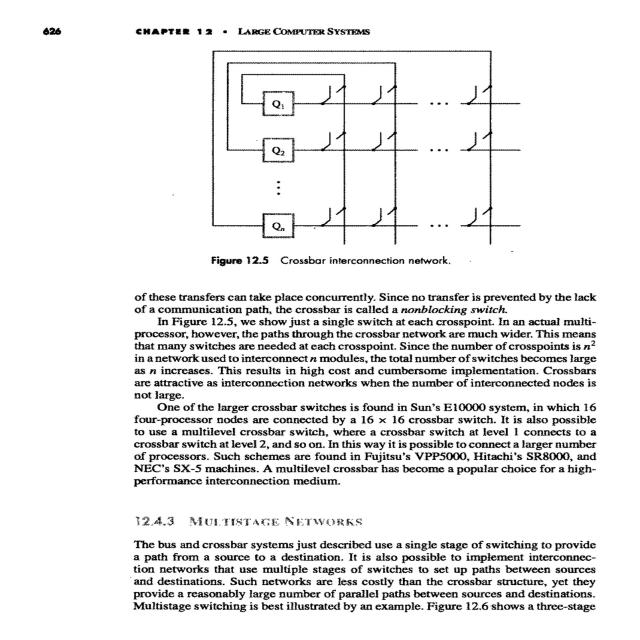diagram: (167, 47, 578, 270)
